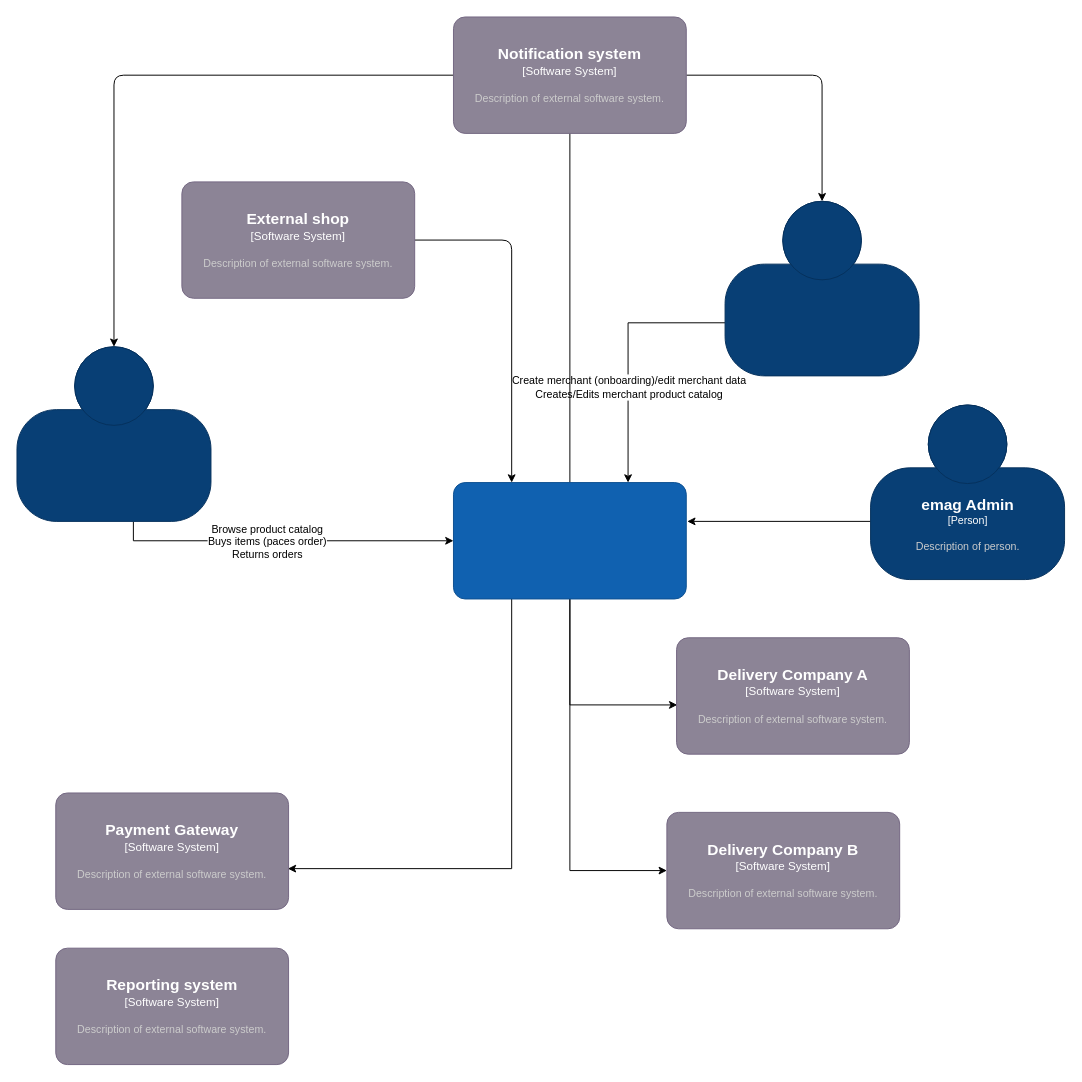
Some shapes in this 1082 by 1082 pixel diagram are drawn without their labels. The centre of each missing label's shape, as x and y in pixels:
Emag system [Software System] ecommerce-marketplace: (x=569, y=540)
Merchant [Person] Description of person.: (x=821, y=288)
Shopper [Person]: (x=113, y=433)
